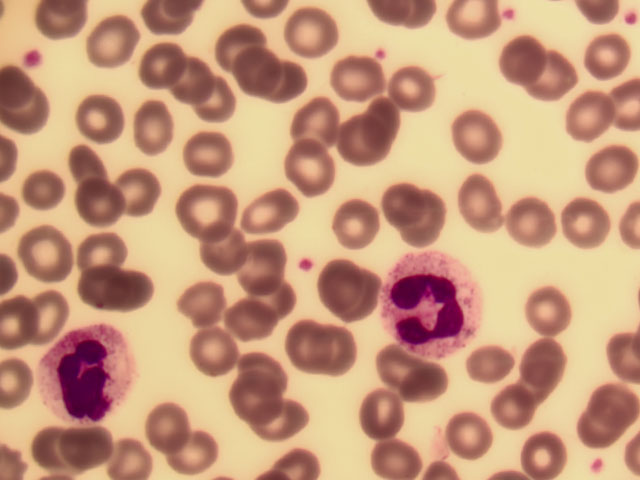Platelets: (20, 48, 47, 71), (296, 257, 321, 273), (588, 456, 608, 474), (372, 43, 390, 61), (501, 5, 516, 24), (623, 10, 637, 30)
RBC: (87, 16, 138, 65), (75, 96, 126, 145), (126, 101, 177, 150), (134, 42, 185, 91), (167, 60, 218, 109), (187, 81, 238, 130), (213, 18, 264, 67), (230, 48, 281, 97), (260, 56, 311, 105), (286, 8, 337, 57), (337, 59, 388, 108), (384, 64, 435, 113), (367, 93, 418, 142), (334, 120, 385, 169), (294, 96, 345, 145), (289, 142, 340, 191), (240, 190, 291, 239), (180, 187, 231, 236), (188, 127, 239, 176), (119, 167, 170, 216), (83, 178, 134, 227), (55, 143, 106, 192), (24, 167, 75, 216), (4, 85, 55, 134), (20, 229, 71, 278), (77, 224, 128, 273), (67, 261, 118, 310), (110, 269, 161, 318), (33, 285, 84, 334), (66, 428, 117, 477), (14, 427, 65, 476), (96, 431, 147, 480), (145, 403, 196, 452), (161, 426, 212, 475), (260, 396, 311, 445), (232, 368, 283, 417), (236, 342, 287, 391), (178, 330, 229, 379), (172, 283, 223, 332), (226, 296, 277, 345), (252, 277, 303, 326), (238, 238, 289, 287), (197, 228, 248, 277), (323, 258, 374, 307), (329, 201, 380, 250), (378, 183, 429, 232), (402, 199, 453, 248), (452, 108, 503, 157), (454, 177, 505, 226), (509, 195, 560, 244), (556, 196, 607, 245), (583, 150, 634, 199), (564, 97, 615, 146), (530, 57, 581, 106), (498, 30, 549, 79), (577, 32, 628, 81), (522, 283, 573, 332), (524, 335, 575, 384), (485, 386, 536, 435), (463, 340, 514, 389), (449, 408, 500, 457), (511, 429, 562, 478), (573, 401, 624, 450), (589, 377, 640, 426), (373, 431, 424, 480), (356, 390, 407, 439), (405, 363, 456, 412), (368, 343, 419, 392), (314, 325, 365, 374), (277, 321, 328, 370), (313, 263, 364, 312)
WBC: (380, 249, 481, 359), (34, 323, 137, 423)
